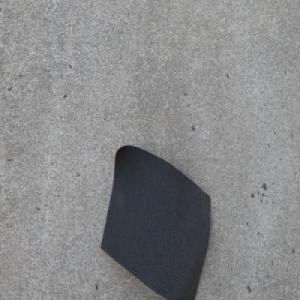PaintChip: (100, 144, 211, 300)
